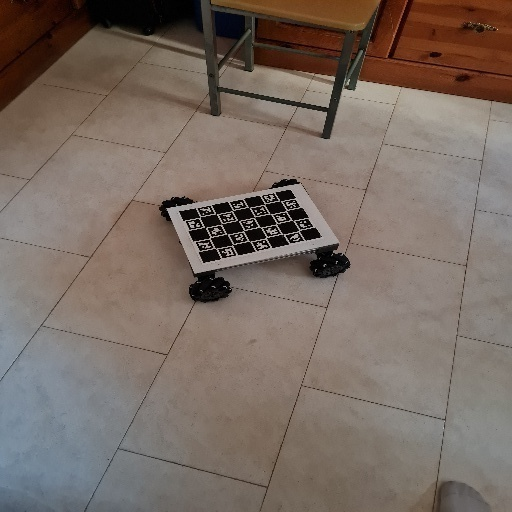Omniwheel: (159, 178, 351, 303)
